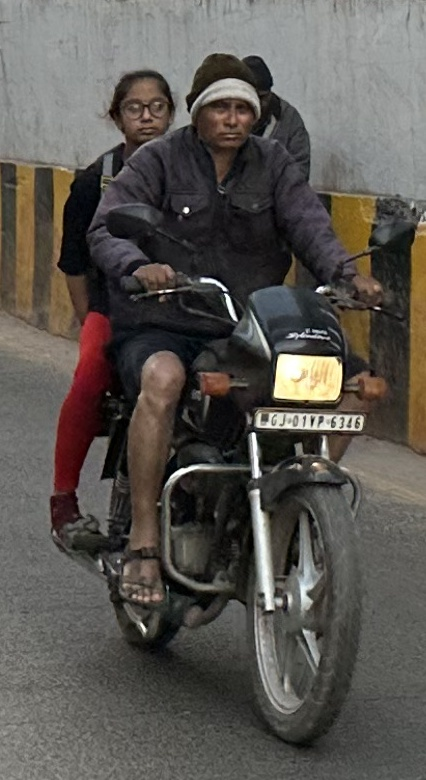BikeWithRider: (45, 51, 419, 748)
NoHelmet: (183, 54, 263, 158), (108, 65, 179, 146)
